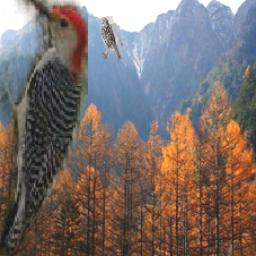Sparrow: (98, 17, 122, 61)
Woodpecker: (0, 0, 87, 256)
